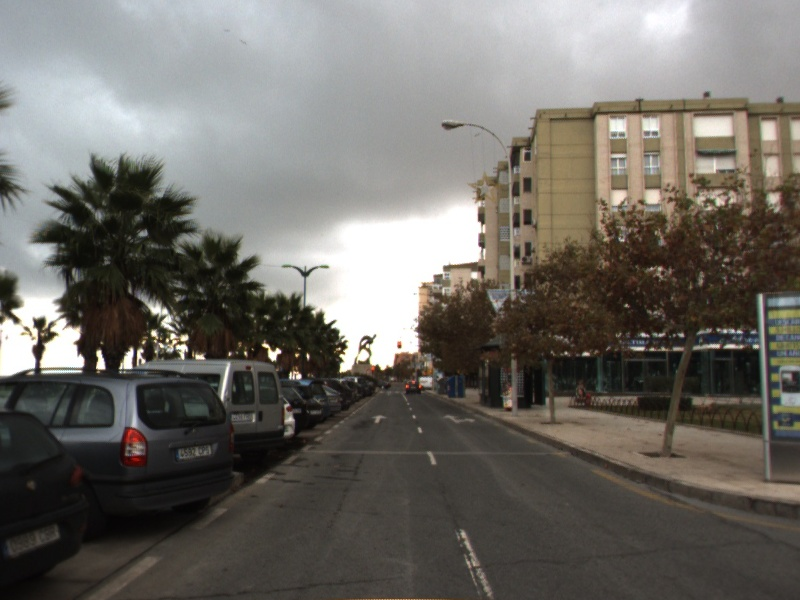STRAIGHT: (370, 413, 389, 425)
STRAIGHT_RIGHT: (441, 412, 478, 425)
